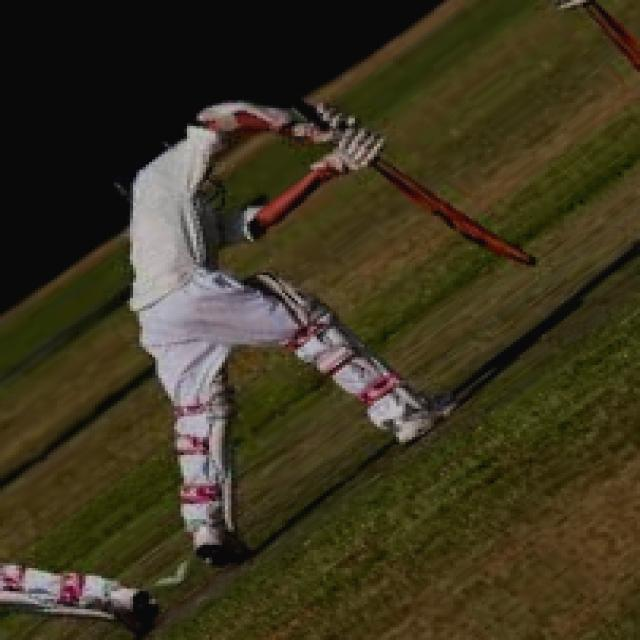bat: (360, 149, 564, 277)
toe: (515, 250, 544, 271)
